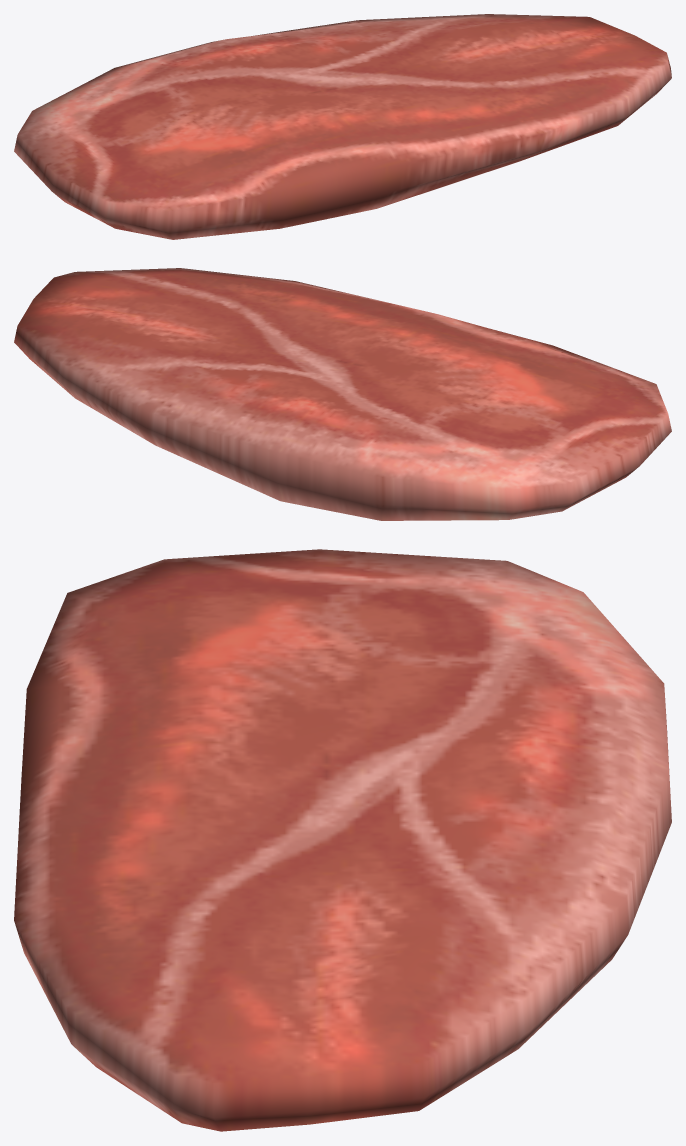
File: LP_MeatRaw.glb
3 views of the same model, one above another, from view 1: azimuth 30°, elevation 25°; view 2: azimuth 150°, elevation 25°; view 3: azimuth 270°, elevation 25° (orthographic). The views are drawn at different scales.
Parts seen in each view (by area): view 1: MeatRaw; view 2: MeatRaw; view 3: MeatRaw.
Boxes of the visible parts, x1,y1,x2,y2 form: MeatRaw: (14, 14, 671, 239); MeatRaw: (14, 268, 671, 520); MeatRaw: (14, 549, 671, 1131).
Bounding box in the file's own units: 0.537 × 0.064 × 0.2764.
1 material, 1 textured.
